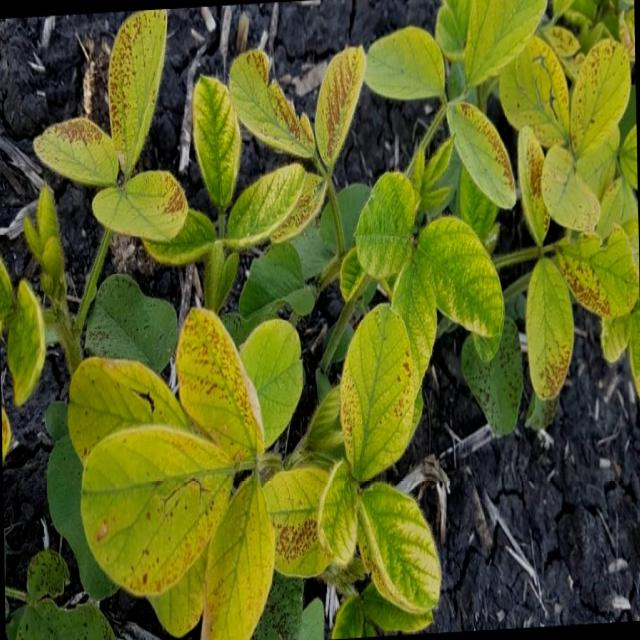Chlorosis: (9, 14, 640, 600)
